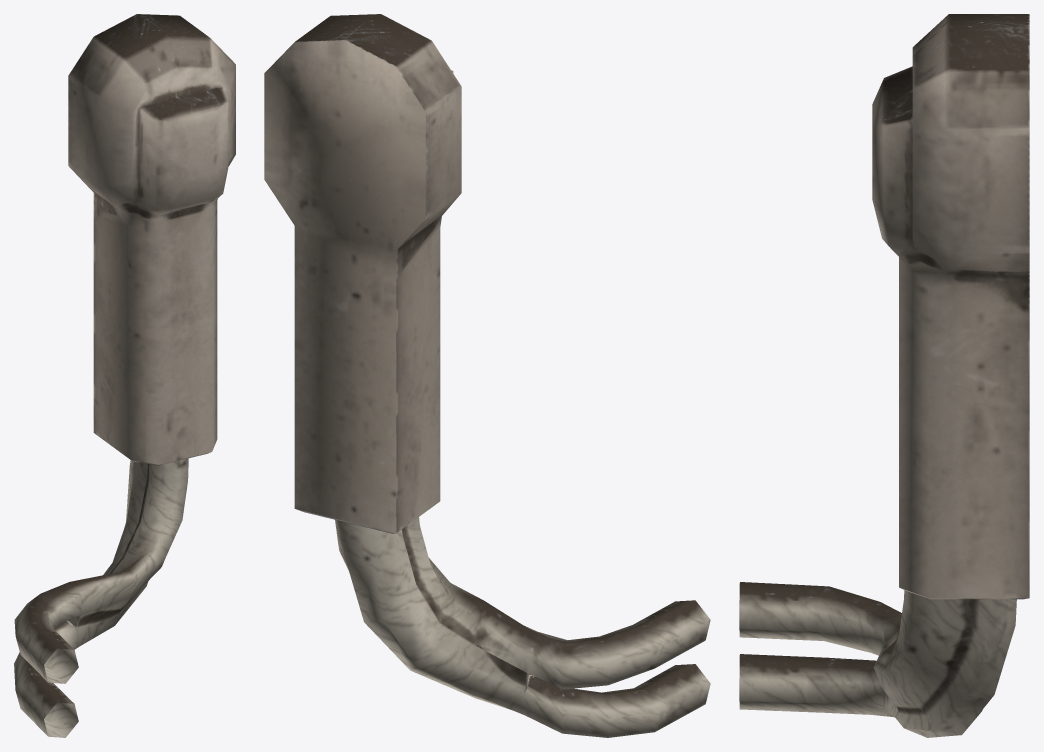
The model's file is WallDuct_D.fbx.
3 renders of one model, left to right at view 1: azimuth 30°, elevation 25°; view 2: azimuth 150°, elevation 25°; view 3: azimuth 270°, elevation 25°, orthographic. The views are drawn at different scales.
Parts seen in each view (by area): view 1: WallDuct_D; view 2: WallDuct_D; view 3: WallDuct_D.
Boxes of the visible parts, x1=… form: WallDuct_D: x1=14, y1=14, x2=235, y2=737; WallDuct_D: x1=264, y1=14, x2=710, y2=737; WallDuct_D: x1=739, y1=14, x2=1029, y2=737.
Size of the model in its own units: 19.74 by 41.9 by 13.76.
Materials: 1 (1 with a texture image).
